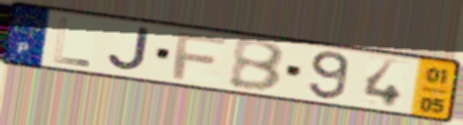4: (361, 57, 406, 110)
9: (307, 50, 352, 101)
B: (227, 38, 288, 94)
F: (170, 31, 228, 82)
J: (105, 26, 152, 74)
L: (51, 15, 93, 69)
